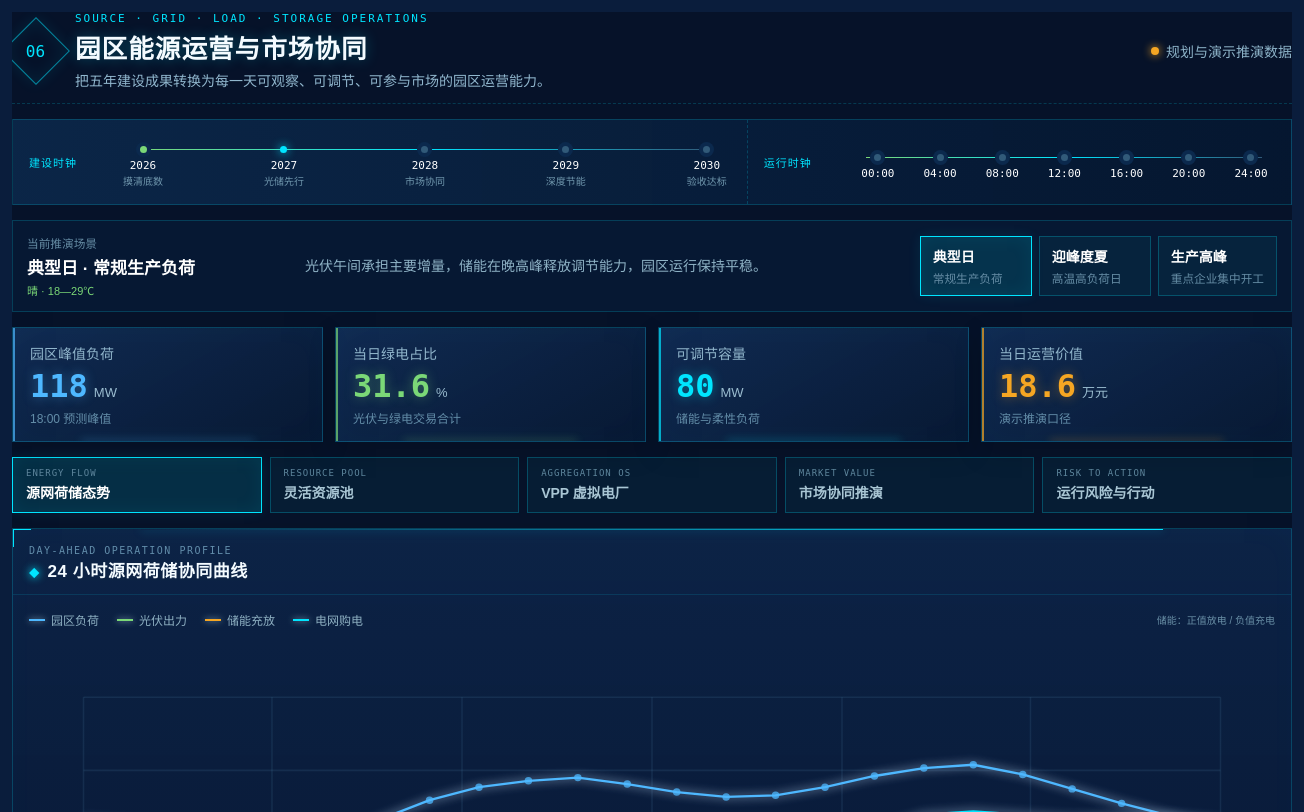
it: OperationsPage › switches scenarios and updates the operational decision
Expected: the element with test id "scenario-summary" shows "典型日", [920,236,1032,296]
What coordinates should you click on to do the following:
click the button "迎峰度夏 高温高负荷日"
I would click on:
 (1095, 266)
Its box is [1039,236,1151,296].
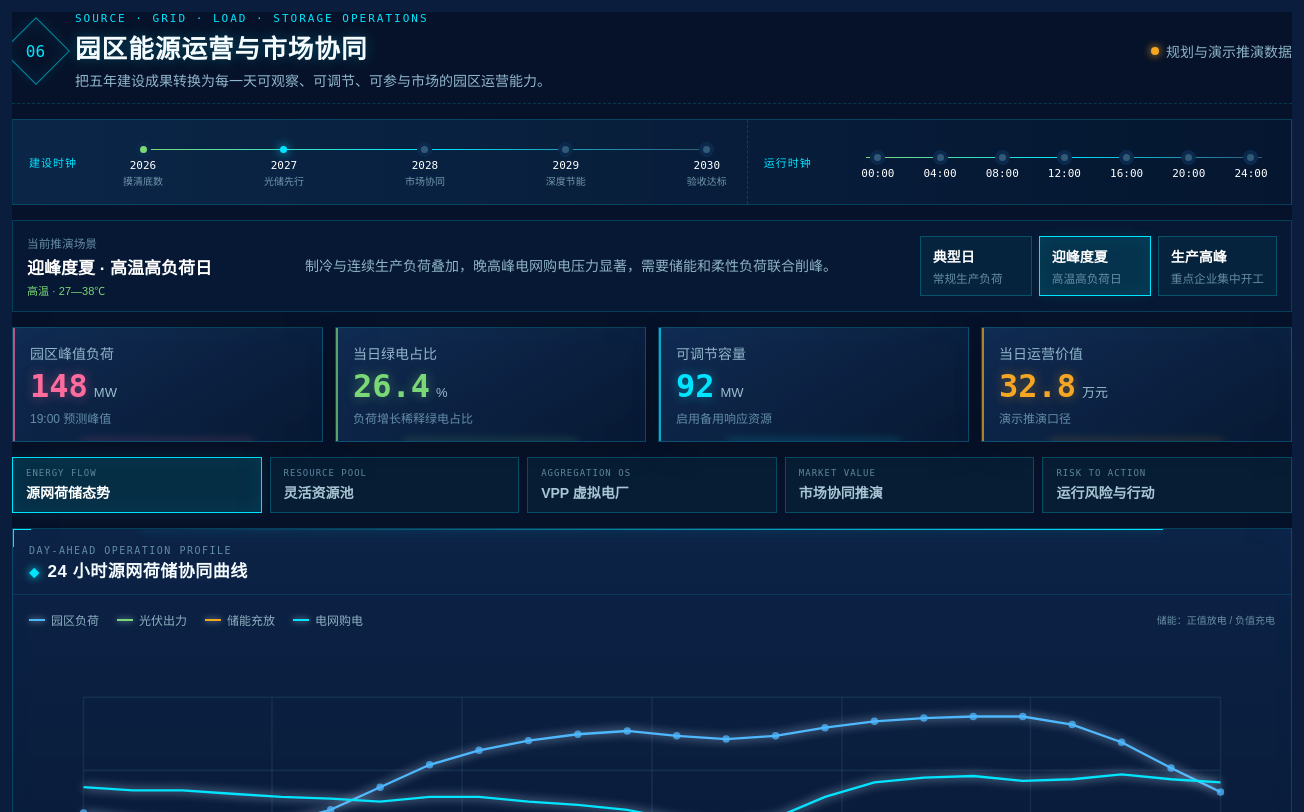
Now the text "148" is shown, box [30,370,88,402]
